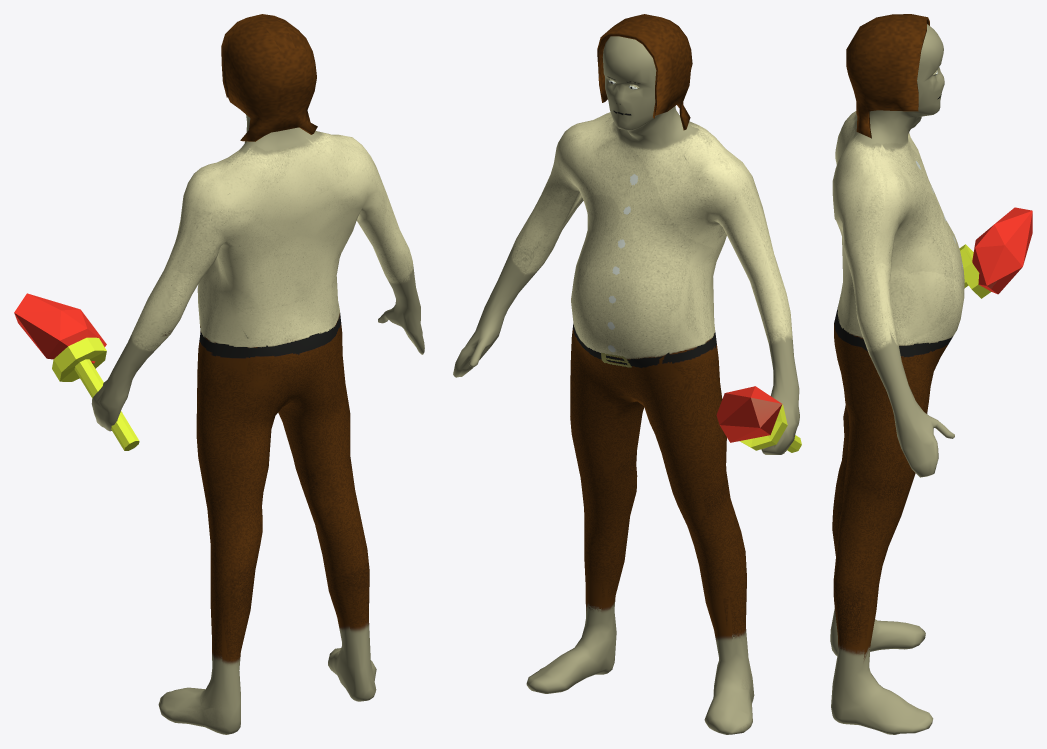
The model's file is ManaPriestNoRig.fbx.
3 views of the same model, side by side, from view 1: azimuth 30°, elevation 25°; view 2: azimuth 150°, elevation 25°; view 3: azimuth 270°, elevation 25° (orthographic). The views are drawn at different scales.
Visible parts, largest first — view 1: ManaPriestMesh; view 2: ManaPriestMesh; view 3: ManaPriestMesh.
Part boxes in pixels (x1,y1,x2,y2): ManaPriestMesh: (14,14,424,734); ManaPriestMesh: (453,14,801,734); ManaPriestMesh: (830,14,1032,734).
Bounding box in the file's own units: 3.14 × 5.54 × 1.52.
1 material, 1 textured.
